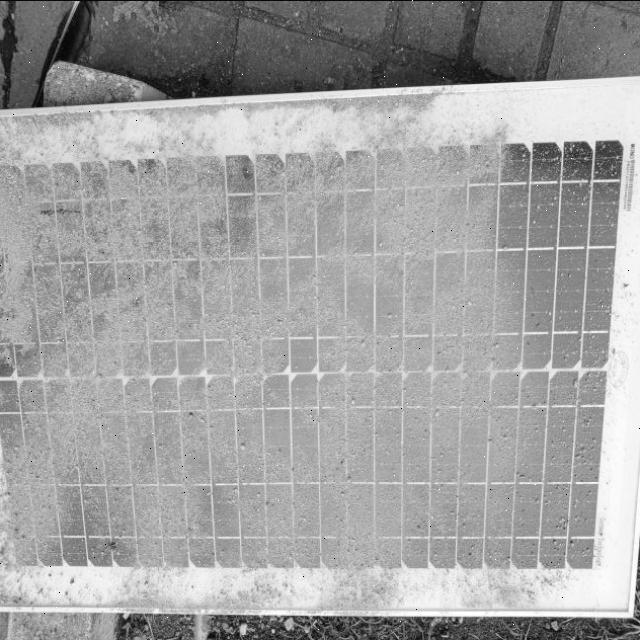Surface Contaminant: (0, 131, 614, 597)
